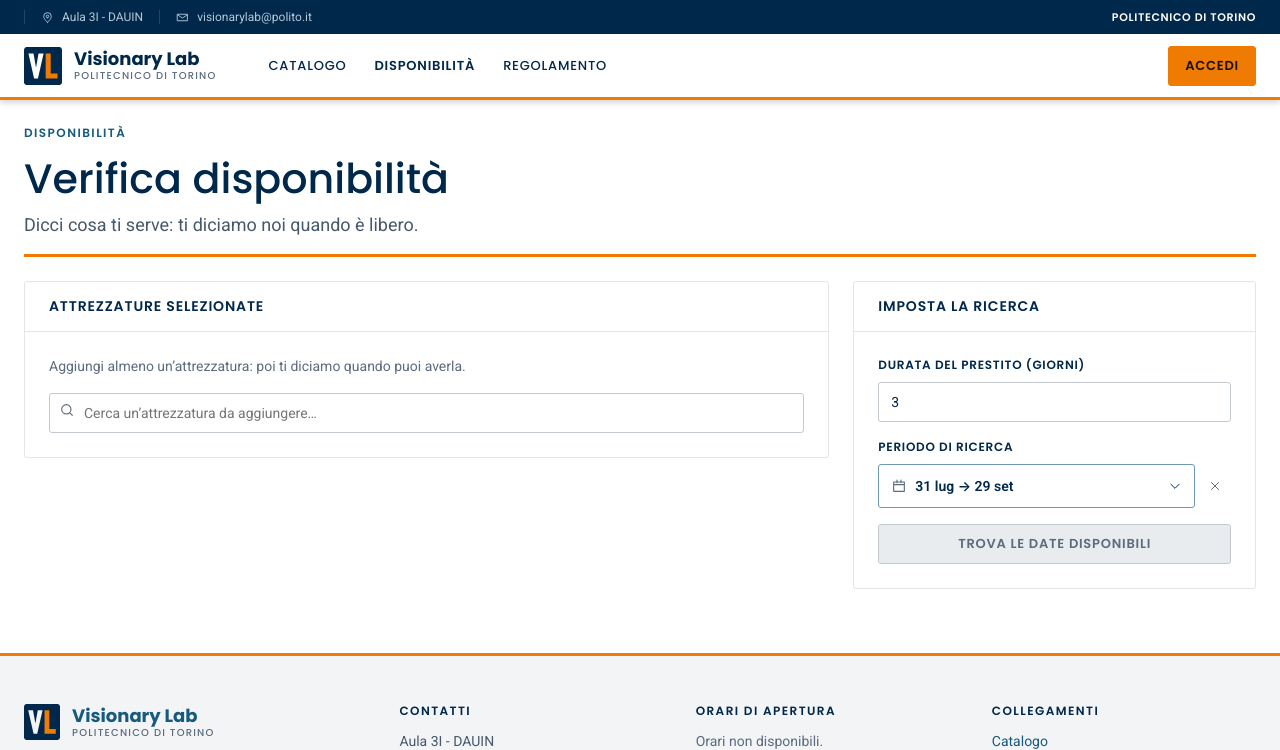
AvailabilityFinderPage (products → dates) › renders one heat-map cell per day and marks closed days distinctly
Expected: the heading "Verifica disponibilità" is shown, [24,150,449,207]
Step 1. Type "visore" into the search field → (427,413), box [49,393,804,433]
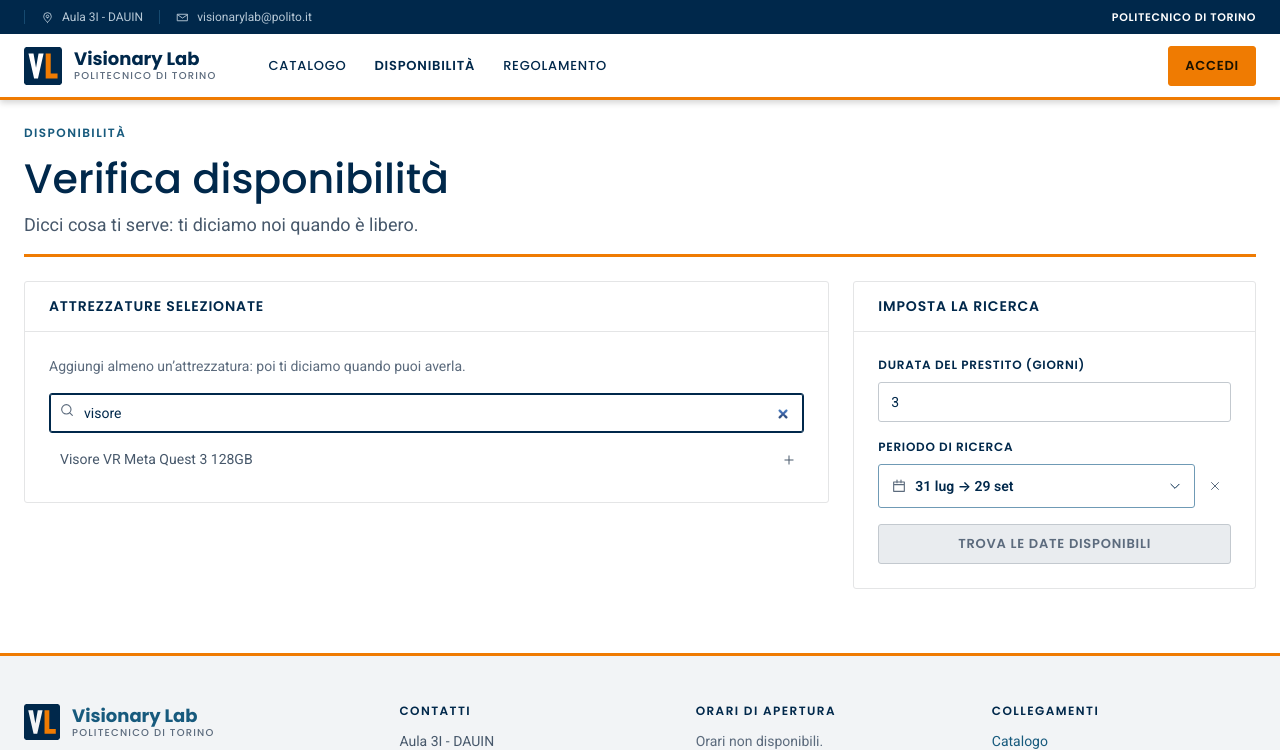
Step 2. Click the button "Visore VR Meta Quest 3 128GB" → (156,459), box [49,441,804,478]
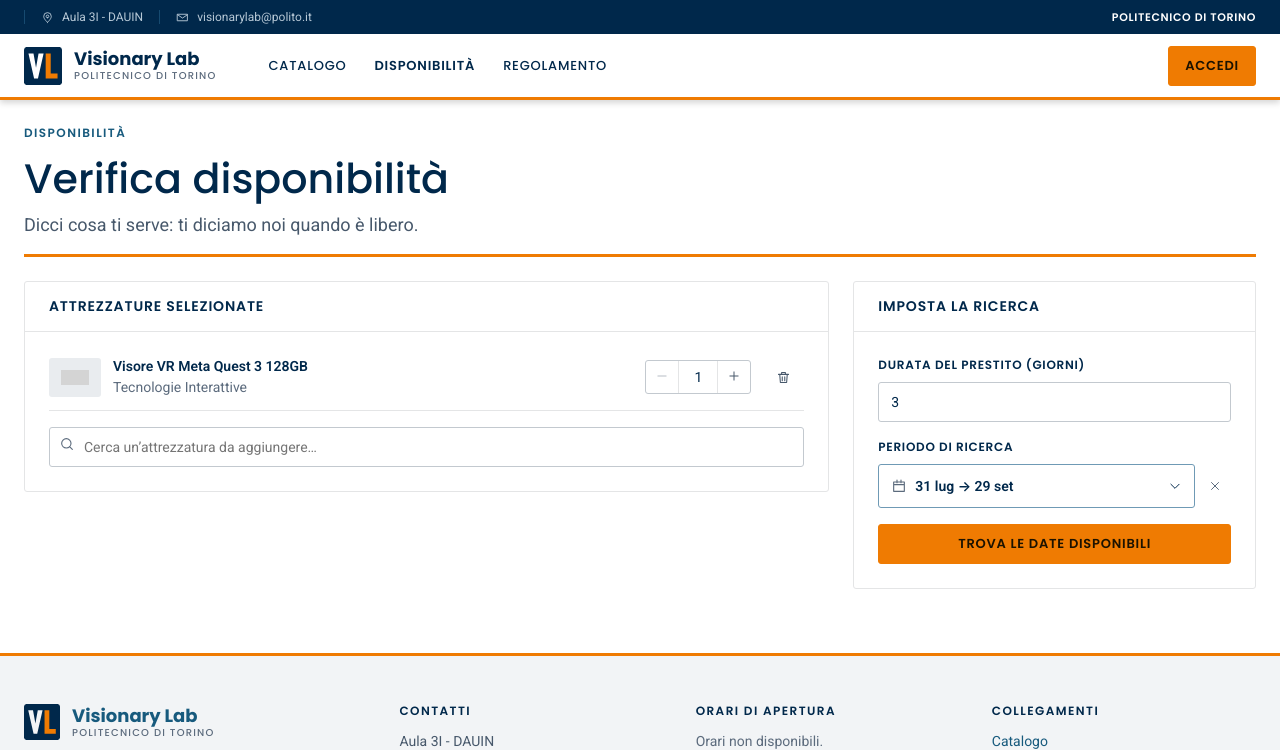
Step 3. Click the button "Trova le date disponibili" → (1055,544), box [878,524,1231,564]
(page scrolled)
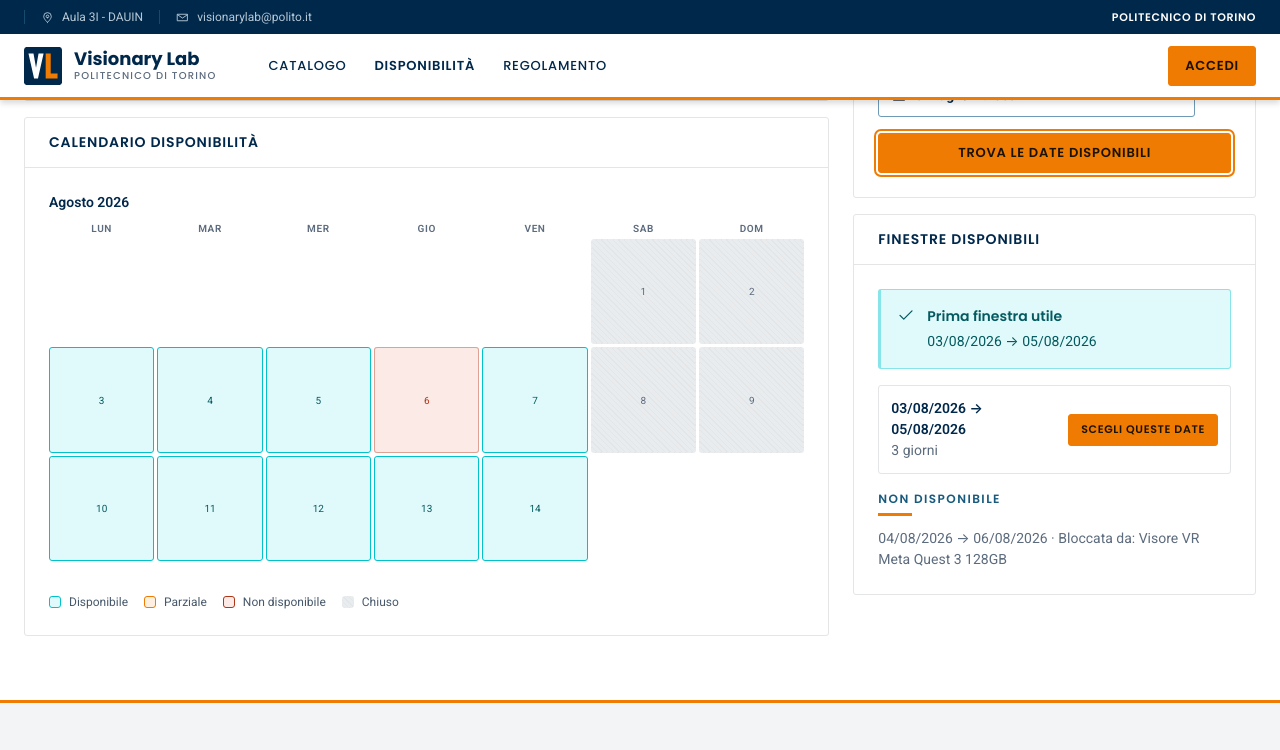
Expected: the number of cells is 14
Expected: the cell "1" is shown, [591,239,696,344]
Expected: the cell "3" is shown, [49,347,154,453]
